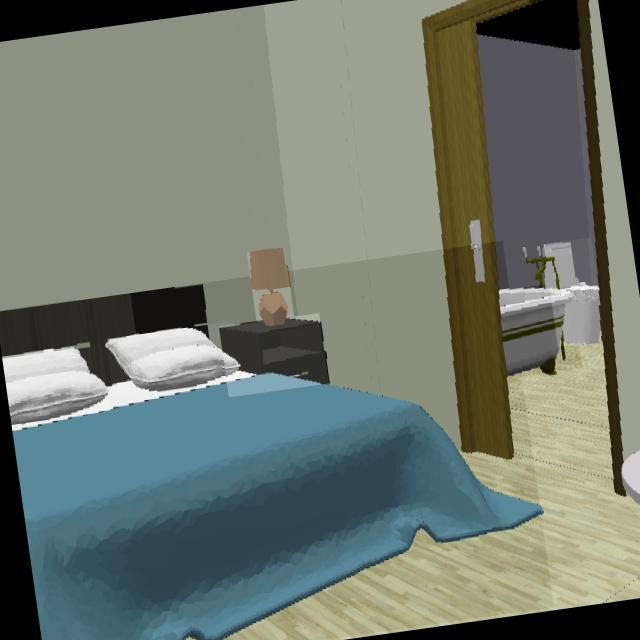bathtube: (501, 291, 572, 375)
bed: (0, 288, 541, 640)
lamp: (252, 250, 290, 326)
nighttable: (220, 319, 328, 383)
pillow: (106, 328, 241, 390), (3, 348, 107, 425)
toilet: (546, 243, 602, 344), (545, 264, 556, 287)
